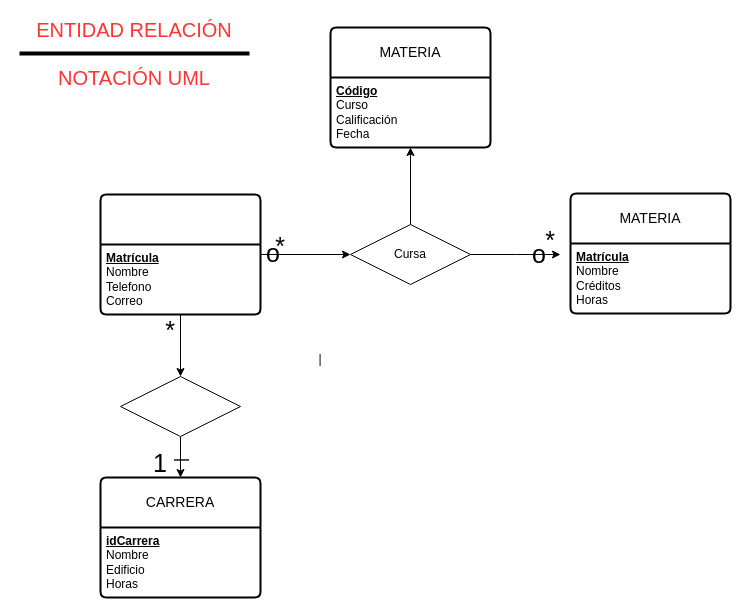
Some shapes in this 748 by 615 pixel diagram are drawn without their labels. The box of each missing label's shape, as (x1, y1, x2, y2) in pixels:
ALUMNO: (99, 193, 261, 315)
Matriculado: (120, 376, 240, 436)
